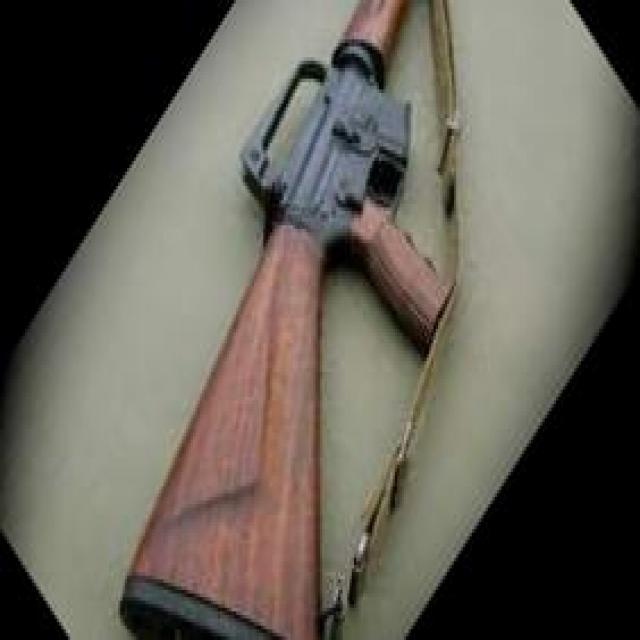weapon: (119, 0, 458, 640)
